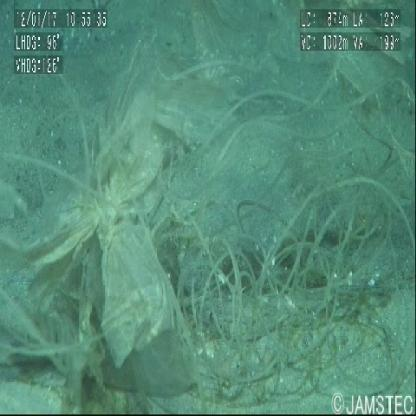Rác: (5, 131, 411, 390)
